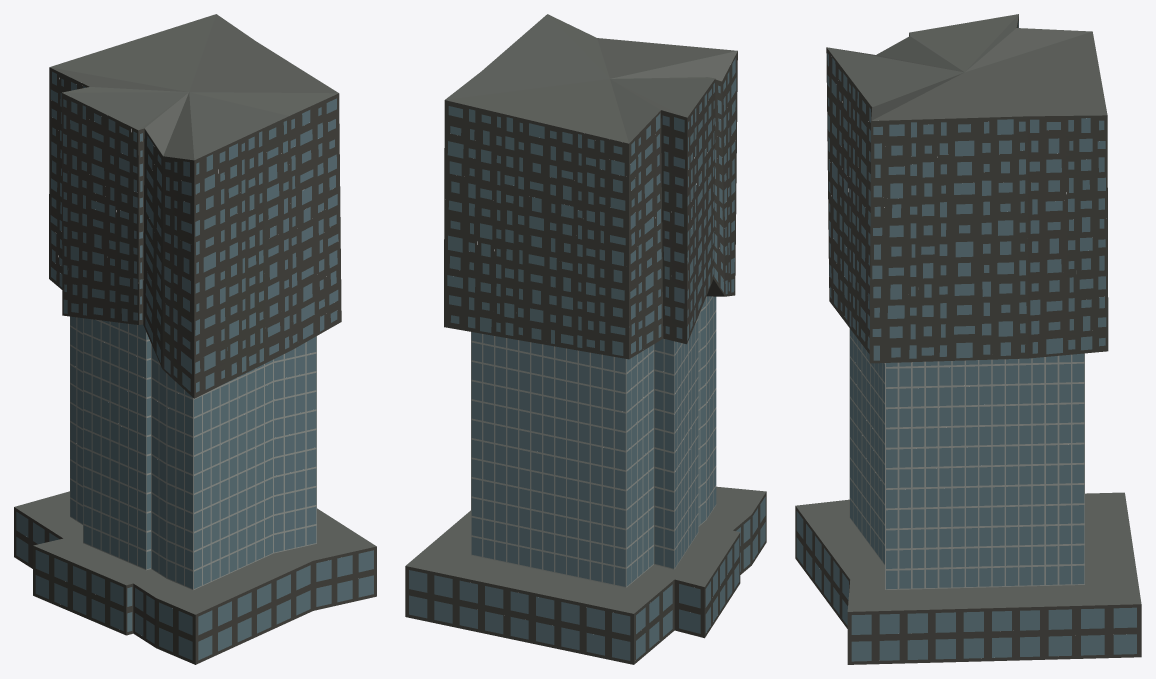
File: the-rock-amsterdam-near.glb
3 views of the same model, side by side, from view 1: azimuth 30°, elevation 25°; view 2: azimuth 150°, elevation 25°; view 3: azimuth 270°, elevation 25° (orthographic). The views are drawn at different scales.
Visible parts, largest first — view 1: the-rock-amsterdam-0-glass, the-rock-amsterdam-0-stone, the-rock-amsterdam-0-roof, the-rock-amsterdam-0-metal; view 2: the-rock-amsterdam-0-glass, the-rock-amsterdam-0-stone, the-rock-amsterdam-0-roof, the-rock-amsterdam-0-metal; view 3: the-rock-amsterdam-0-glass, the-rock-amsterdam-0-stone, the-rock-amsterdam-0-roof, the-rock-amsterdam-0-metal.
Boxes of the visible parts, bbox=[...] form: the-rock-amsterdam-0-glass: bbox=[16, 71, 373, 660]; the-rock-amsterdam-0-stone: bbox=[14, 67, 376, 664]; the-rock-amsterdam-0-roof: bbox=[14, 14, 376, 614]; the-rock-amsterdam-0-metal: bbox=[70, 317, 316, 589]; the-rock-amsterdam-0-glass: bbox=[409, 58, 765, 660]; the-rock-amsterdam-0-stone: bbox=[405, 51, 766, 664]; the-rock-amsterdam-0-roof: bbox=[406, 14, 766, 613]; the-rock-amsterdam-0-metal: bbox=[471, 296, 716, 587]; the-rock-amsterdam-0-glass: bbox=[796, 21, 1136, 661]; the-rock-amsterdam-0-stone: bbox=[795, 16, 1141, 664]; the-rock-amsterdam-0-roof: bbox=[796, 14, 1141, 611]; the-rock-amsterdam-0-metal: bbox=[849, 328, 1084, 589].
Size of the model in its own units: 48.24 by 90 by 53.24.
